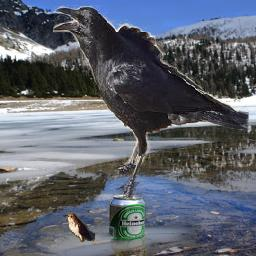Crow: (53, 5, 249, 201)
Cuckoo: (63, 212, 95, 242)
